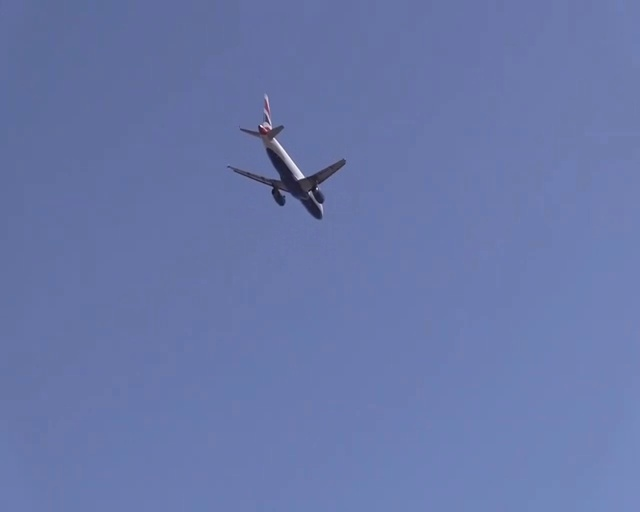AIRPLANE: (225, 92, 346, 220)
